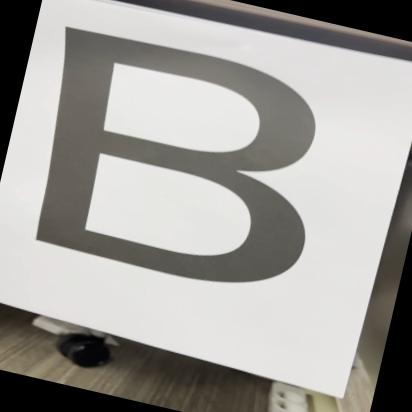seat: (0, 3, 367, 317)
